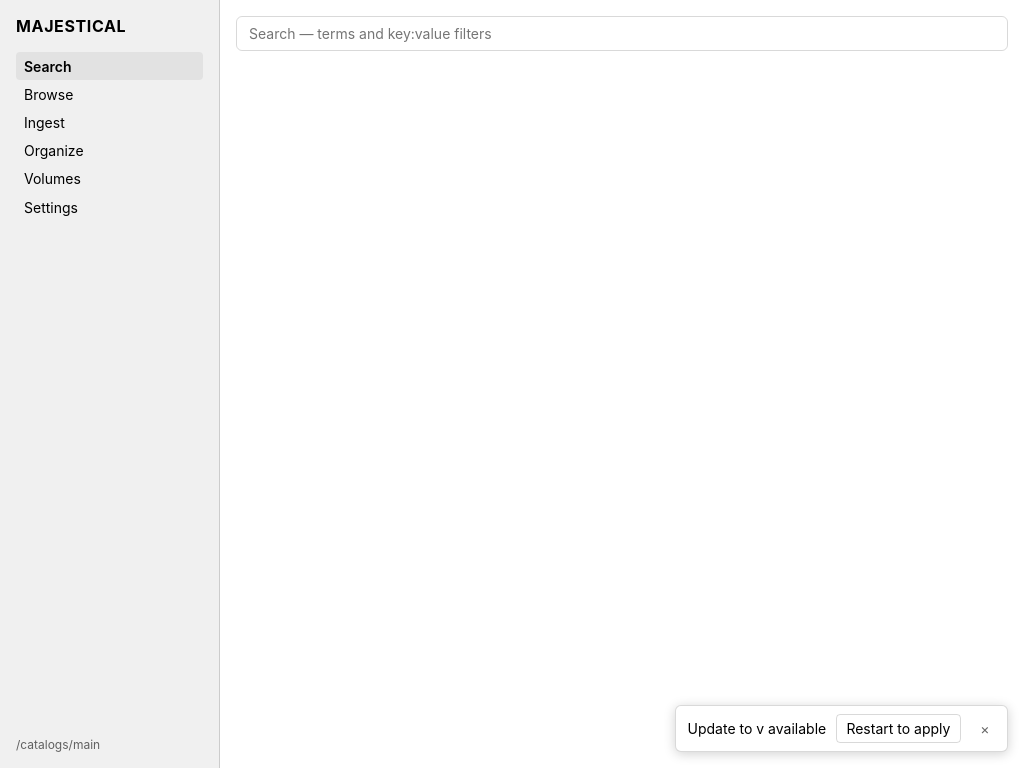
the settings surface swaps in with the doctor's health rows
Click the button "Settings": (110, 207) x1=16 y1=193 x2=203 y2=221
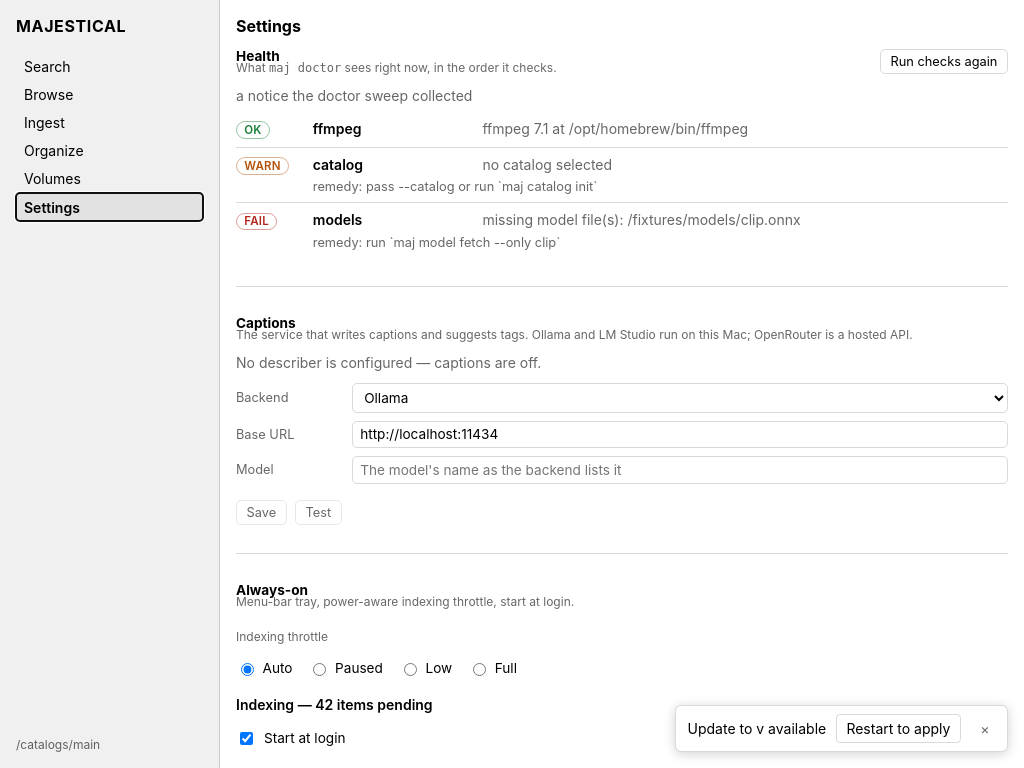
Expected: the heading "Health" is shown, x1=236 y1=48 x2=280 y2=64
Expected: the number of list items with class "settings-check" is 3, x1=236 y1=120 x2=748 y2=139; x1=236 y1=147 x2=1008 y2=202; x1=236 y1=202 x2=1008 y2=258
Expected: the heading "Captions" is shown, x1=236 y1=315 x2=296 y2=331
